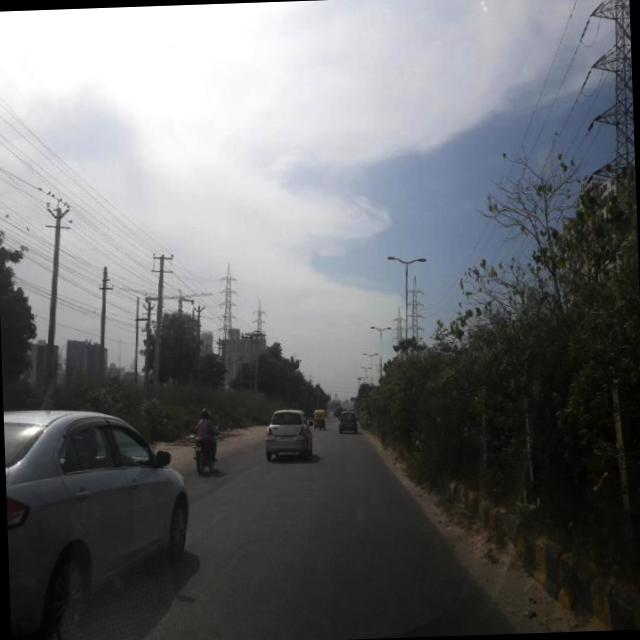crack: (174, 480, 474, 626)
